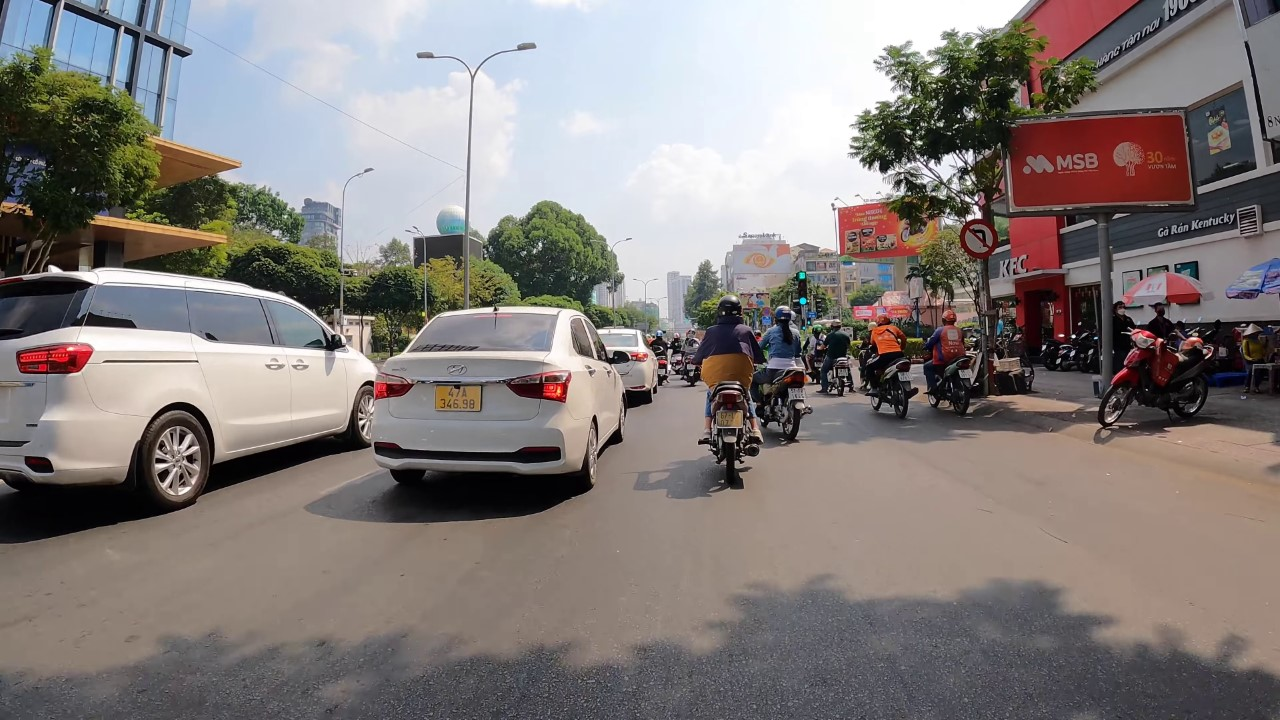cam_re_trai: (957, 215, 1001, 261)
